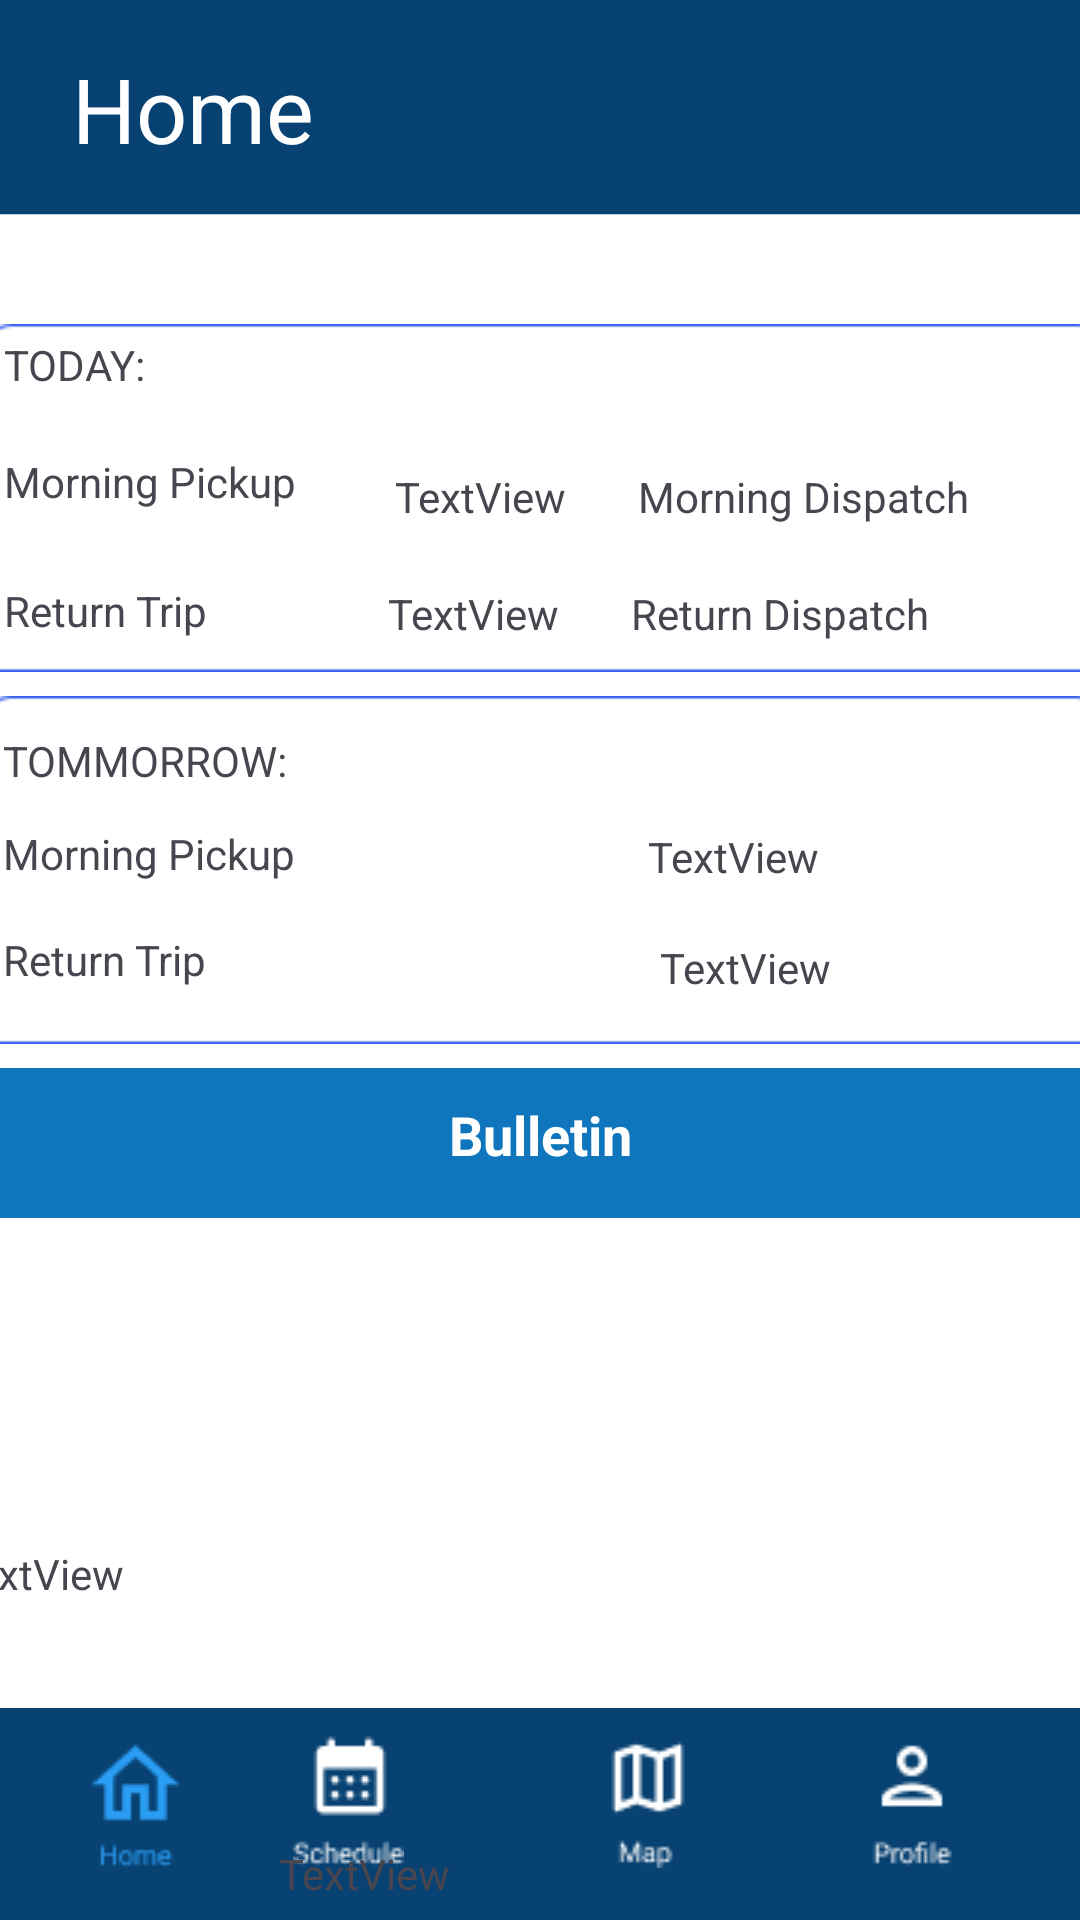

Where icons sit on this 1080w x 1920h app screen, as (x1, y1, x2, y2):
calendar: (314, 1736, 386, 1816)
